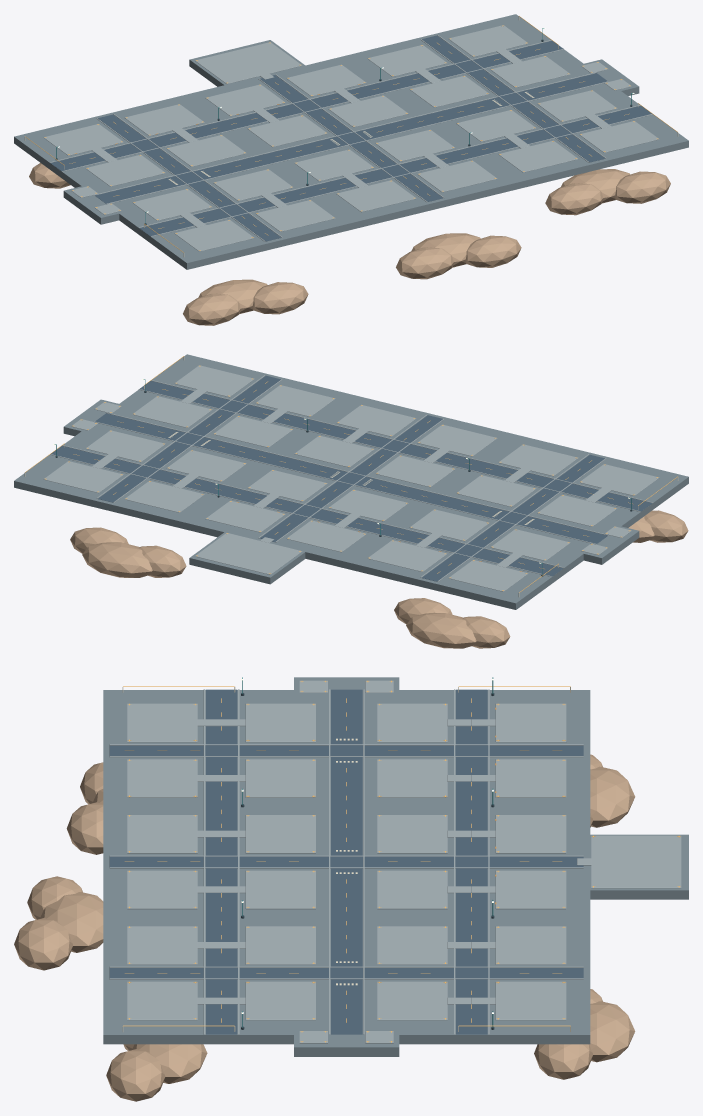
File: ground.glb
The picture shows the model from 3 angles, top to bottom: view 1: azimuth 30°, elevation 25°; view 2: azimuth 150°, elevation 25°; view 3: azimuth 270°, elevation 25°; orthographic projection. The views are drawn at different scales.
Visible parts, largest first — view 1: planet_gasgiant__Roads, planet_gasgiant__Terrain; view 2: planet_gasgiant__Roads, planet_gasgiant__Terrain; view 3: planet_gasgiant__Roads, planet_gasgiant__Terrain.
Boxes of the visible parts, <box> form: planet_gasgiant__Roads: <box>43,25,659,251</box>; planet_gasgiant__Terrain: <box>14,14,688,325</box>; planet_gasgiant__Roads: <box>43,365,659,591</box>; planet_gasgiant__Terrain: <box>14,354,688,648</box>; planet_gasgiant__Roads: <box>109,680,681,1043</box>; planet_gasgiant__Terrain: <box>14,677,688,1101</box>.
Size of the model in its own units: 133 by 19.15 by 103.
